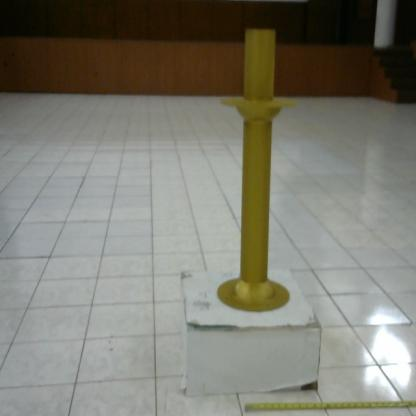pole: (216, 23, 302, 320)
